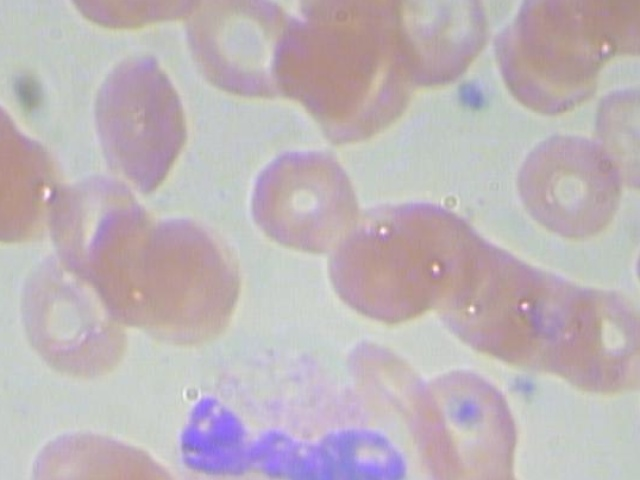Platelets: (505, 365, 551, 410), (451, 74, 497, 118)
RBC: (9, 229, 135, 387), (81, 46, 206, 203), (238, 135, 374, 267), (496, 120, 632, 252), (323, 206, 443, 338), (127, 215, 247, 347), (169, 0, 313, 103), (387, 195, 493, 325), (428, 227, 533, 357), (471, 251, 576, 381), (490, 18, 624, 115), (416, 357, 519, 480), (352, 0, 506, 82), (559, 276, 640, 405), (0, 85, 61, 242), (19, 404, 144, 480), (579, 73, 640, 205), (73, 423, 199, 480)
WBC: (172, 345, 425, 480)
